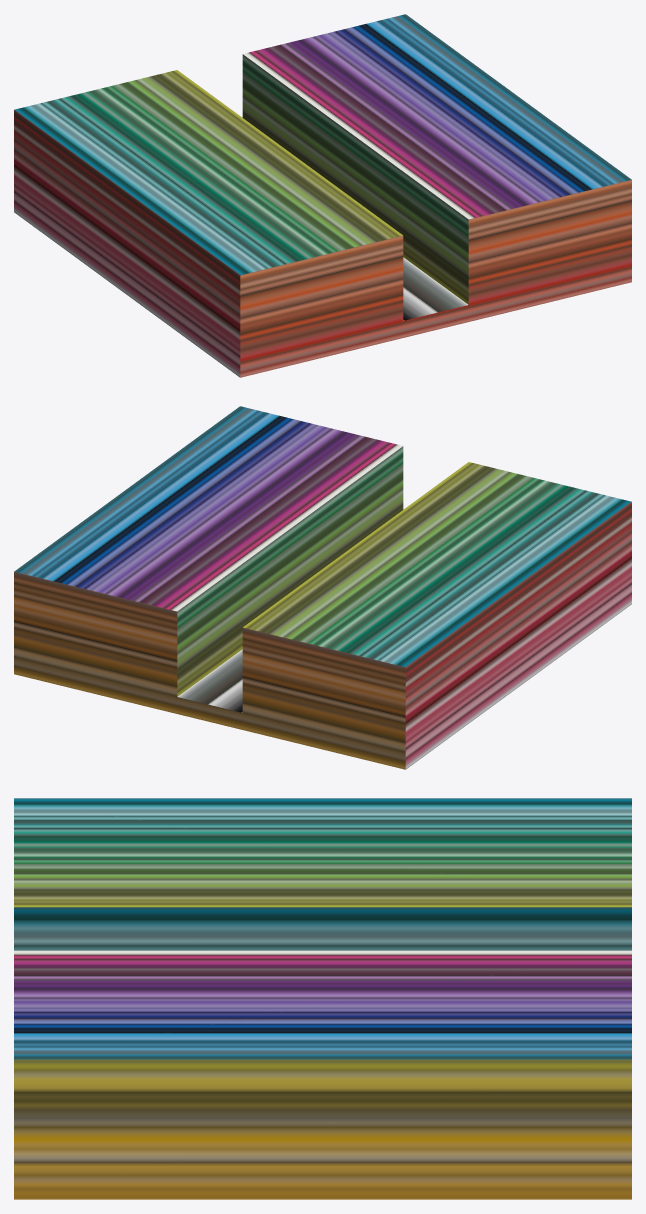
File: one_Way.obj
3 views of the same model, one above another, from view 1: azimuth 30°, elevation 25°; view 2: azimuth 150°, elevation 25°; view 3: azimuth 270°, elevation 25° (orthographic). The views are drawn at different scales.
Visible parts, largest first — view 1: One-Way_Room-00_One-Way_Room-00; view 2: One-Way_Room-00_One-Way_Room-00; view 3: One-Way_Room-00_One-Way_Room-00.
Boxes of the visible parts, x1=… form: One-Way_Room-00_One-Way_Room-00: x1=14, y1=14, x2=631, y2=377; One-Way_Room-00_One-Way_Room-00: x1=14, y1=406, x2=631, y2=769; One-Way_Room-00_One-Way_Room-00: x1=14, y1=798, x2=631, y2=1199.
Size of the model in its own units: 48 by 12 by 48.
